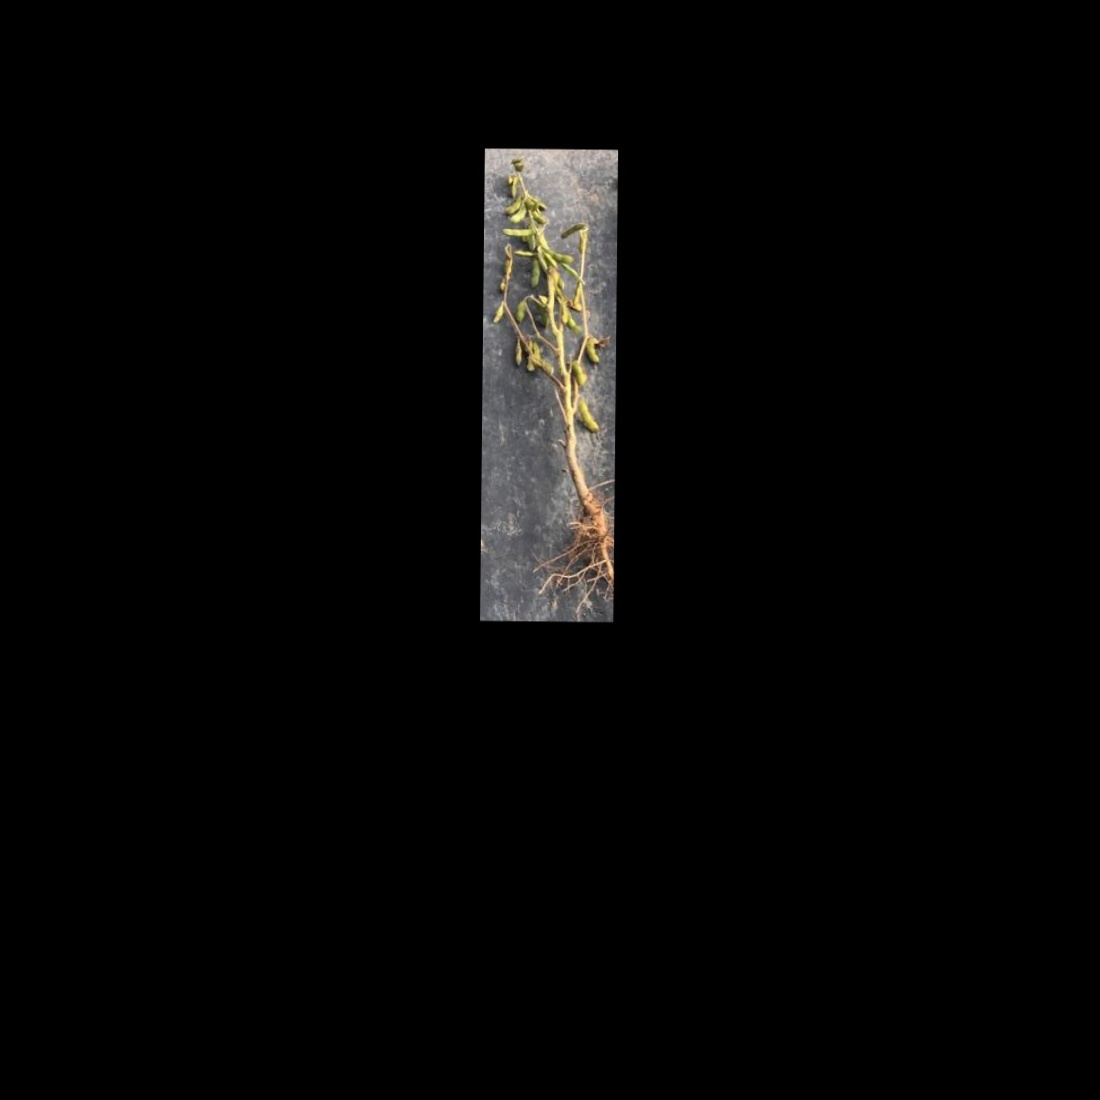pod: (577, 396, 601, 435), (499, 224, 537, 238), (559, 219, 584, 240), (584, 337, 601, 367), (509, 340, 524, 370), (526, 258, 541, 287), (548, 250, 577, 265), (489, 301, 505, 327), (512, 298, 526, 322), (509, 173, 519, 200)
soy: (484, 151, 609, 574)
